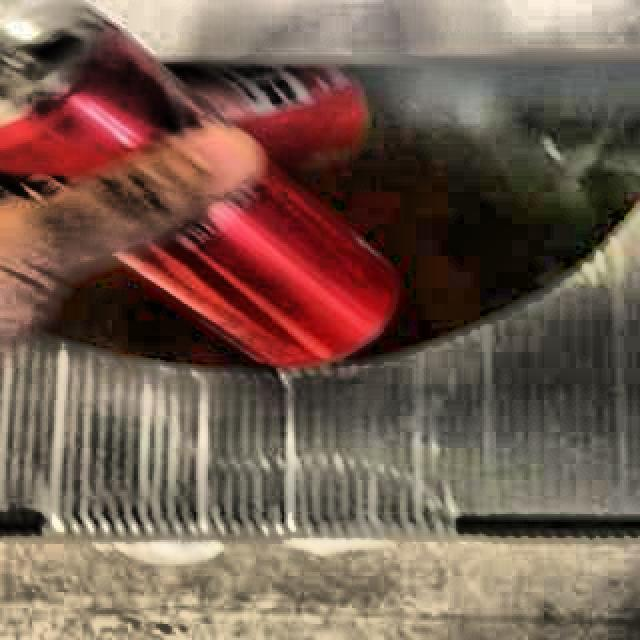metal: (0, 0, 397, 369)
